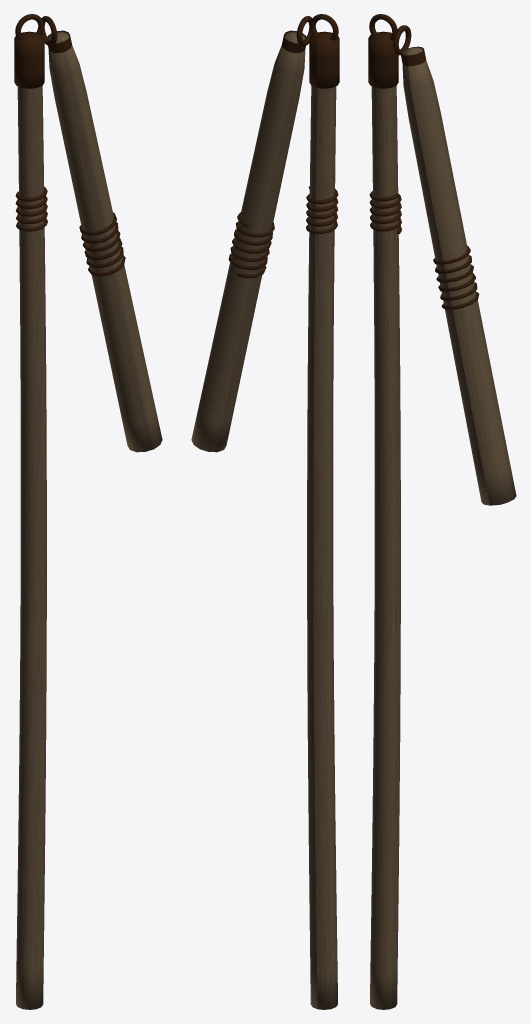
Rendered from threshing_flail_p1_w2.glb.
3 views of the same model, side by side, from view 1: azimuth 30°, elevation 25°; view 2: azimuth 150°, elevation 25°; view 3: azimuth 330°, elevation 25° (orthographic).
Visible parts, largest first — view 1: threshing_flail_p1_w2; view 2: threshing_flail_p1_w2; view 3: threshing_flail_p1_w2.
Part boxes in pixels (x1,y1,x2,y2): threshing_flail_p1_w2: (14,14,162,1009); threshing_flail_p1_w2: (191,14,339,1009); threshing_flail_p1_w2: (368,14,516,1009).
Bounding box in the file's own units: 0.2011 × 1.32 × 0.0476.
2 materials, 1 textured.
